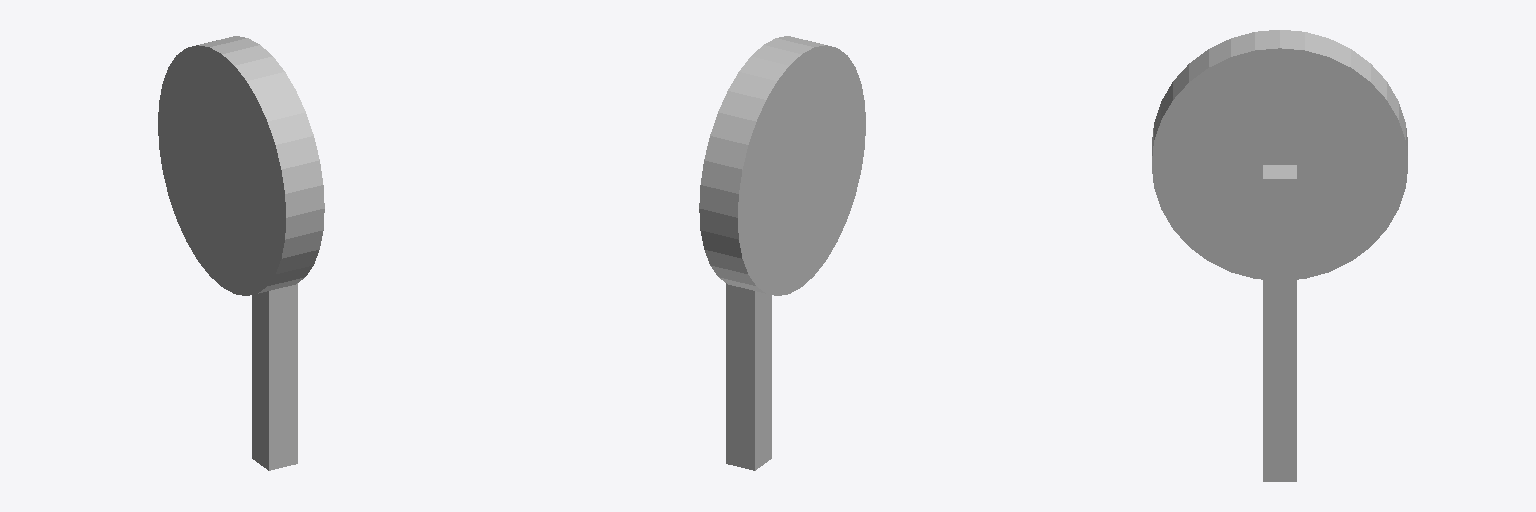
Rendered from target.obj.
3 renders of one model, left to right at view 1: azimuth 30°, elevation 25°; view 2: azimuth 150°, elevation 25°; view 3: azimuth 270°, elevation 25°, orthographic.
Parts seen in each view (by area): view 1: Circle; view 2: Circle; view 3: Circle.
Part boxes in pixels (left/top/right/bottom): Circle: left=158, top=36, right=324, bottom=470; Circle: left=699, top=36, right=865, bottom=470; Circle: left=1152, top=30, right=1407, bottom=481.
Bounding box in the file's own units: 0.3795 × 2.25 × 1.25.